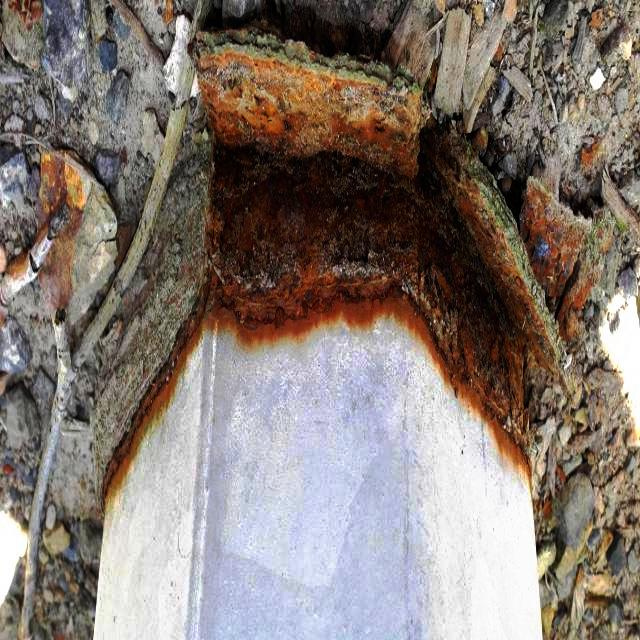Corrosion: (93, 143, 531, 517)
